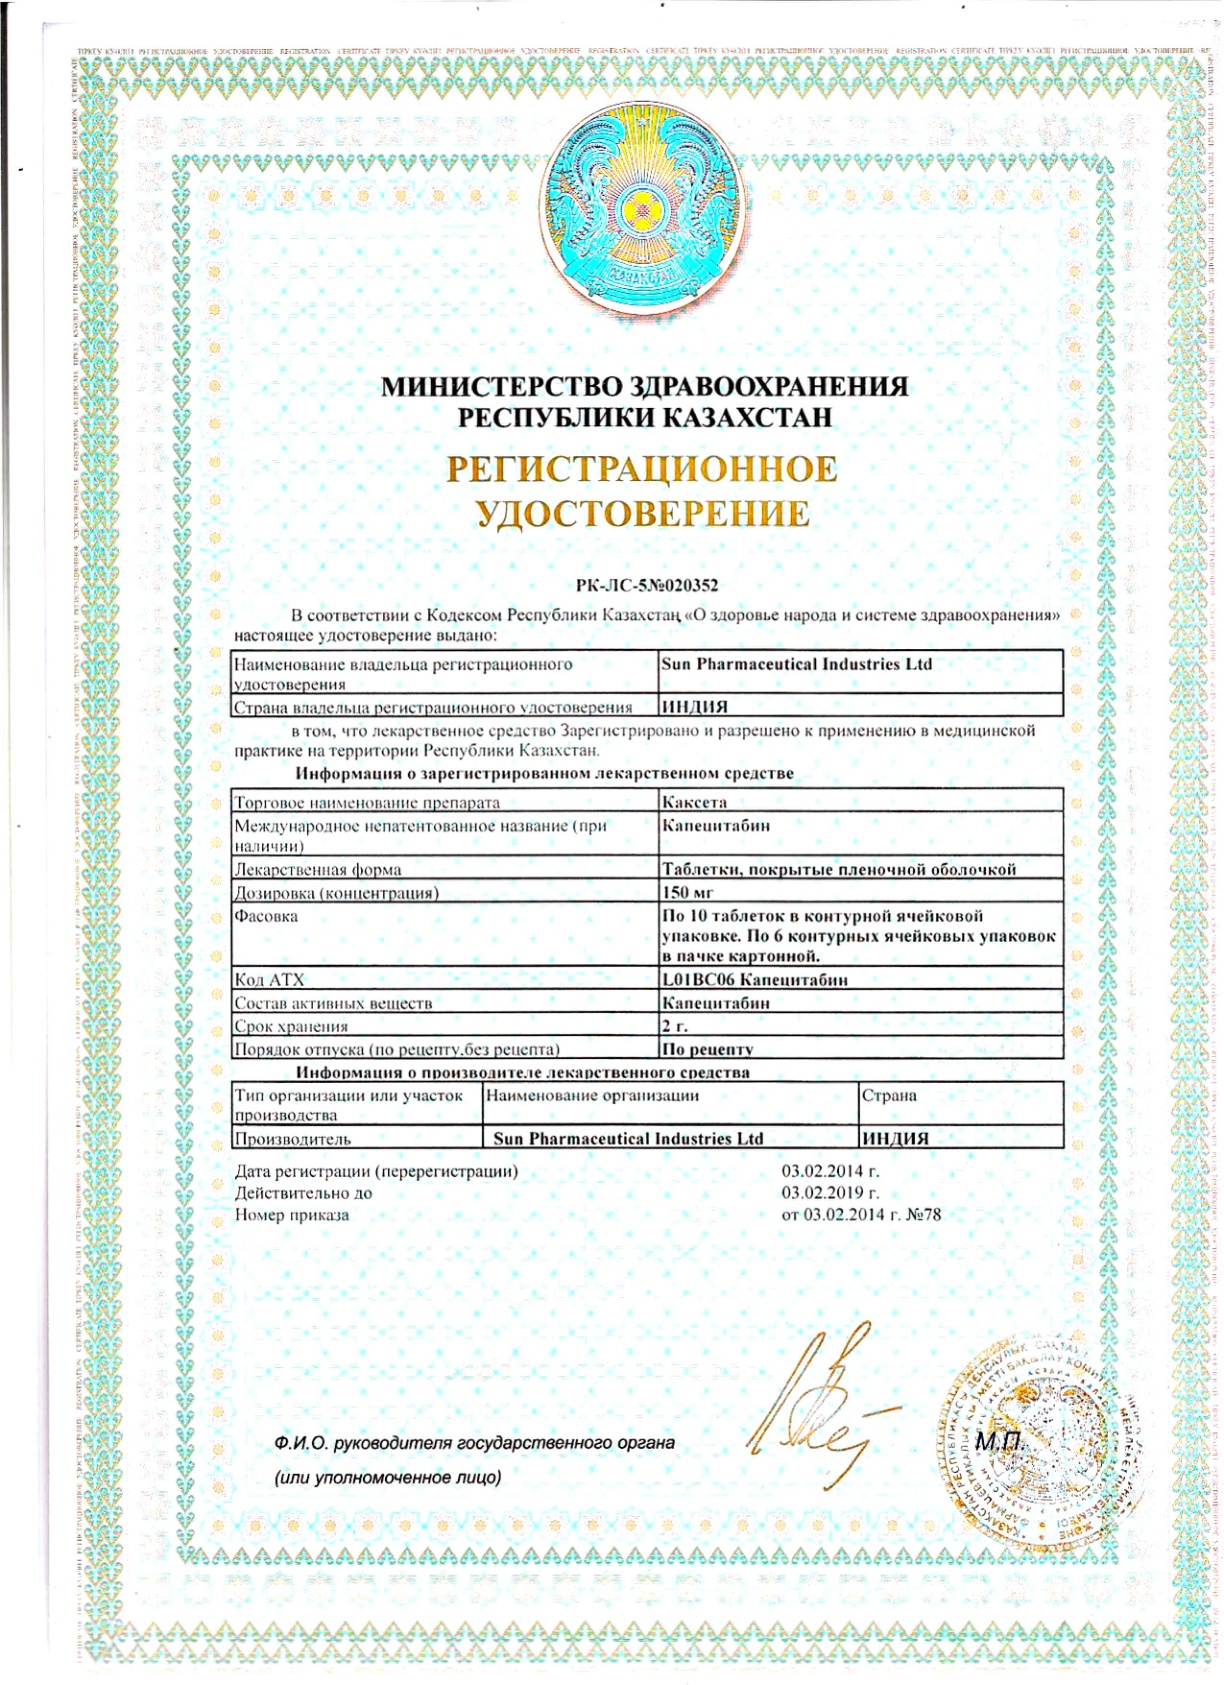full_lined: (229, 786, 1064, 1060), (228, 648, 1064, 718), (229, 1079, 1064, 1150)
